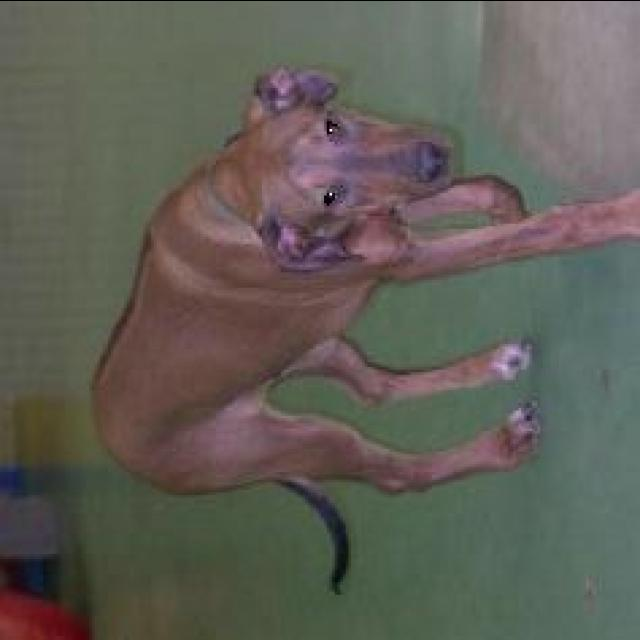rhodesian_ridgeback: (87, 59, 638, 596)
